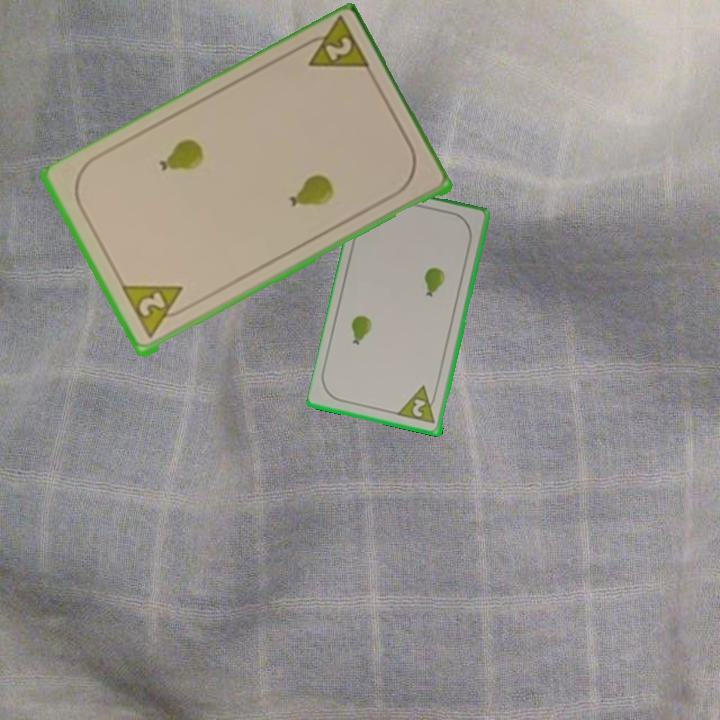2p: (294, 15, 374, 76), (395, 383, 441, 427), (134, 289, 168, 321)
